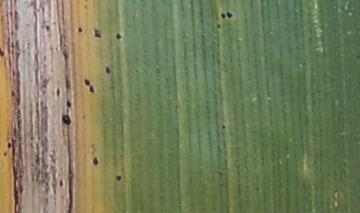tarspot: (60, 113, 73, 126), (92, 26, 103, 41), (54, 87, 63, 100), (57, 177, 66, 189), (64, 98, 73, 109), (82, 77, 91, 88), (88, 83, 96, 95), (91, 156, 99, 167), (104, 64, 112, 75), (114, 31, 122, 41), (76, 25, 84, 35), (225, 10, 233, 20), (115, 174, 123, 184), (1, 46, 7, 59), (43, 24, 51, 32), (10, 89, 16, 98), (215, 22, 222, 29), (2, 150, 8, 158), (7, 141, 12, 150), (219, 12, 226, 18), (220, 123, 225, 130), (354, 53, 360, 58)
